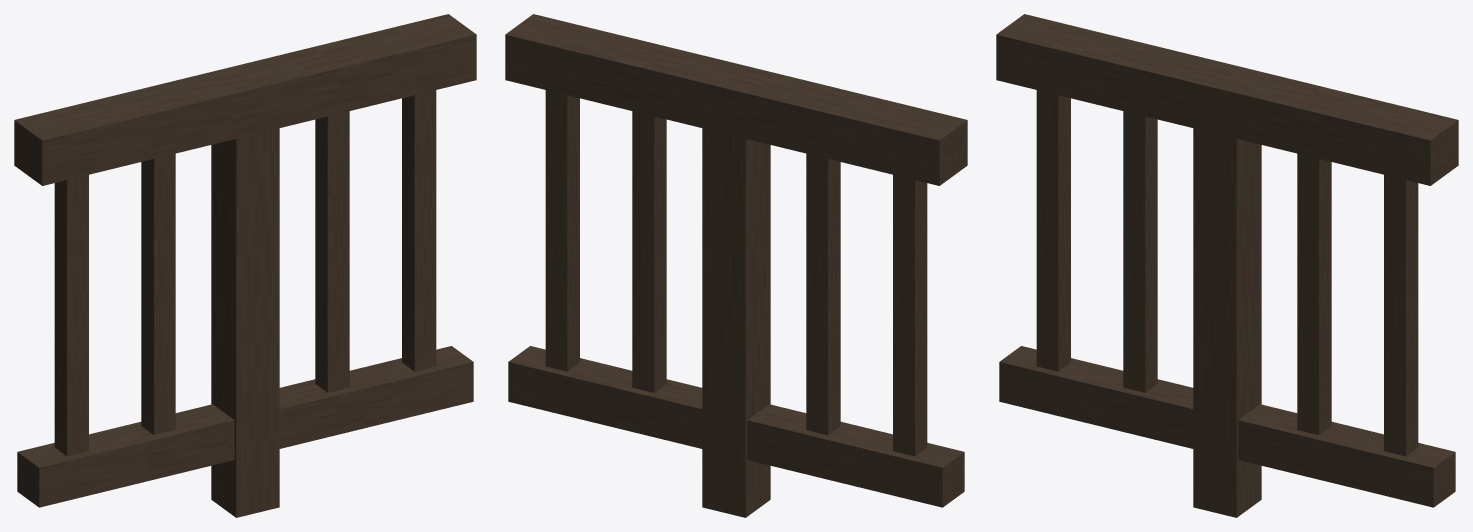
File: level.obj
The picture shows the model from 3 angles, left to right: view 1: azimuth 30°, elevation 25°; view 2: azimuth 150°, elevation 25°; view 3: azimuth 330°, elevation 25°; orthographic projection.
Visible parts, largest first — view 1: railing_picket_bronze_level; view 2: railing_picket_bronze_level; view 3: railing_picket_bronze_level.
Boxes of the visible parts, bbox=[...] form: railing_picket_bronze_level: bbox=[14, 14, 476, 517]; railing_picket_bronze_level: bbox=[505, 14, 967, 517]; railing_picket_bronze_level: bbox=[996, 14, 1458, 517].
Bounding box in the file's own units: 1 × 0.9375 × 0.1125.
